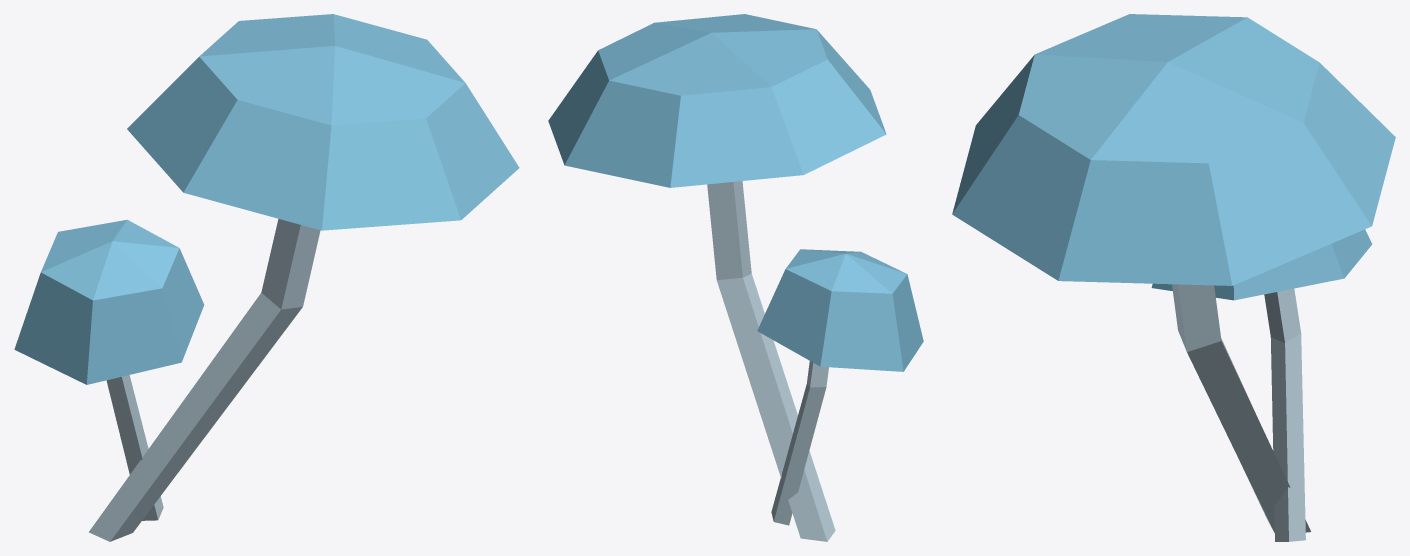
File: Mushroom_a_04.fbx
The picture shows the model from 3 angles, left to right: view 1: azimuth 30°, elevation 25°; view 2: azimuth 150°, elevation 25°; view 3: azimuth 270°, elevation 25°; orthographic projection. The views are drawn at different scales.
Parts seen in each view (by area): view 1: Mushroom_a_04; view 2: Mushroom_a_04; view 3: Mushroom_a_04.
Boxes of the visible parts, x1,y1,x2,y2 form: Mushroom_a_04: (14,14,519,541); Mushroom_a_04: (548,14,923,541); Mushroom_a_04: (952,14,1395,541).
Bounding box in the file's own units: 0.3187 × 0.3472 × 0.2485.
